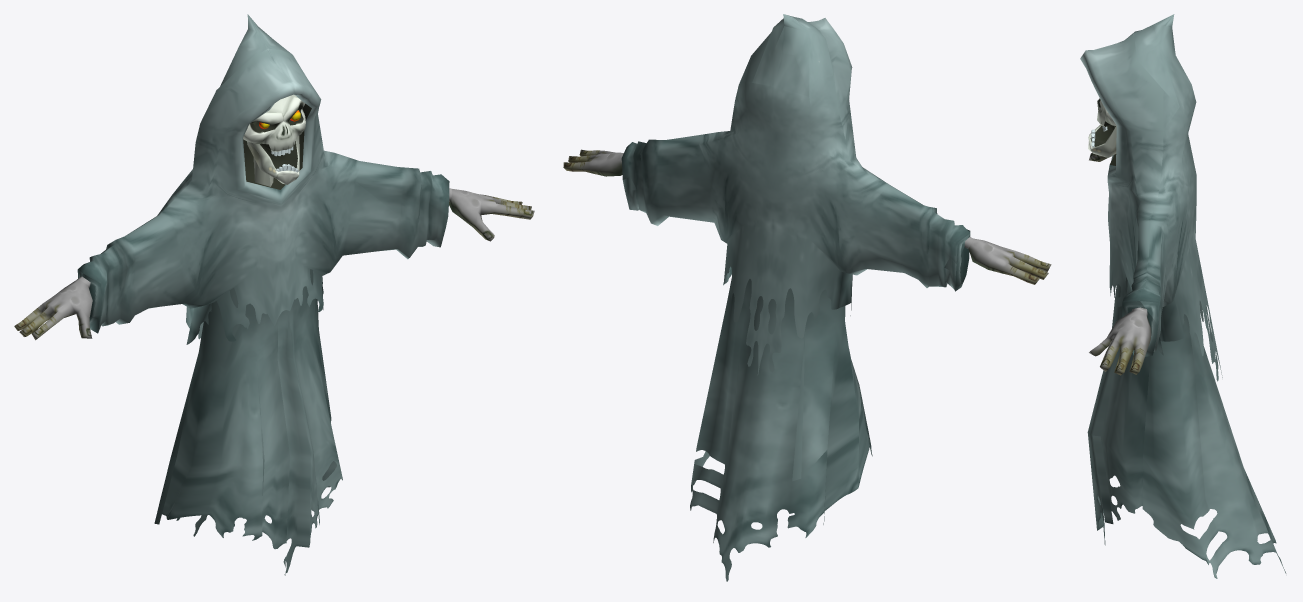
Rendered from ghost.fbx.
3 views of the same model, side by side, from view 1: azimuth 30°, elevation 25°; view 2: azimuth 150°, elevation 25°; view 3: azimuth 270°, elevation 25° (orthographic). The views are drawn at different scales.
Visible parts, largest first — view 1: cloth, hands, head; view 2: cloth, hands; view 3: cloth, hands, head.
Part boxes in pixels (left/top/right/bottom): cloth: left=77, top=14, right=449, bottom=575; hands: left=14, top=188, right=534, bottom=340; head: left=243, top=94, right=305, bottom=186; cloth: left=621, top=14, right=970, bottom=581; hands: left=563, top=149, right=1051, bottom=284; cloth: left=1080, top=14, right=1286, bottom=578; hands: left=1089, top=153, right=1151, bottom=375; head: left=1088, top=98, right=1116, bottom=157.
Size of the model in its own units: 2.97 by 3.16 by 1.06.
1 material, 1 textured.
